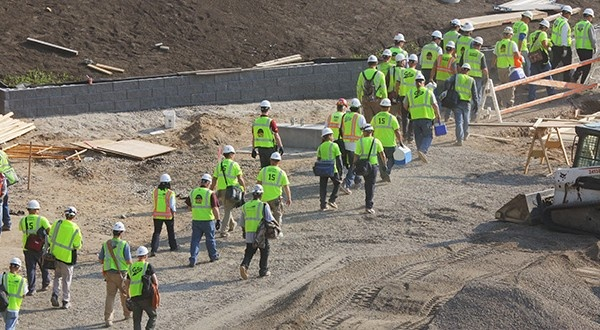red: (335, 98, 348, 111)
white: (7, 257, 22, 274), (26, 199, 40, 215), (112, 222, 126, 238), (135, 246, 149, 262), (63, 205, 76, 221), (159, 172, 172, 188), (199, 173, 212, 189), (251, 183, 264, 199), (259, 99, 271, 115), (269, 151, 282, 165), (360, 124, 374, 137), (222, 145, 234, 160), (322, 127, 334, 142), (349, 97, 361, 112), (538, 18, 551, 31), (379, 98, 391, 112), (366, 54, 378, 68), (582, 8, 594, 22), (393, 33, 405, 46), (502, 26, 514, 39), (431, 30, 442, 44), (462, 21, 473, 35), (408, 53, 418, 68), (521, 11, 533, 23), (395, 52, 406, 65), (472, 36, 483, 49), (561, 5, 572, 18), (446, 40, 456, 53), (450, 18, 460, 31), (460, 63, 471, 74), (382, 48, 392, 60), (415, 73, 424, 85)
